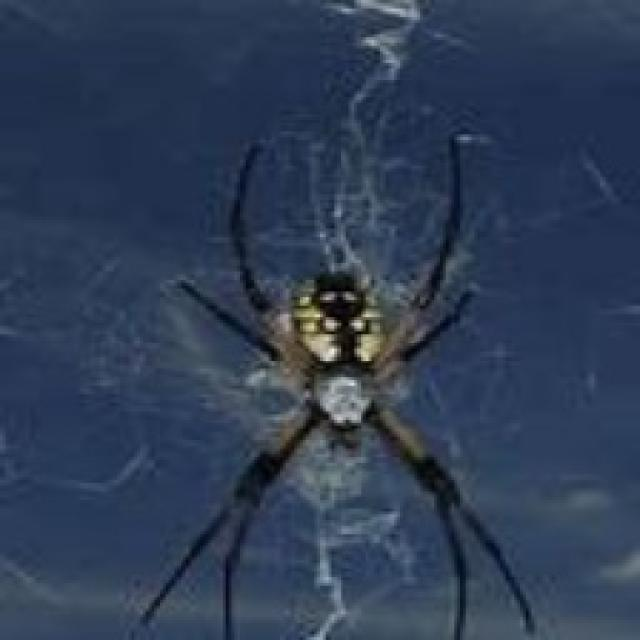Non venomous spider: (101, 84, 574, 640)
